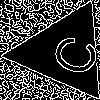C: (39, 27, 100, 80)
